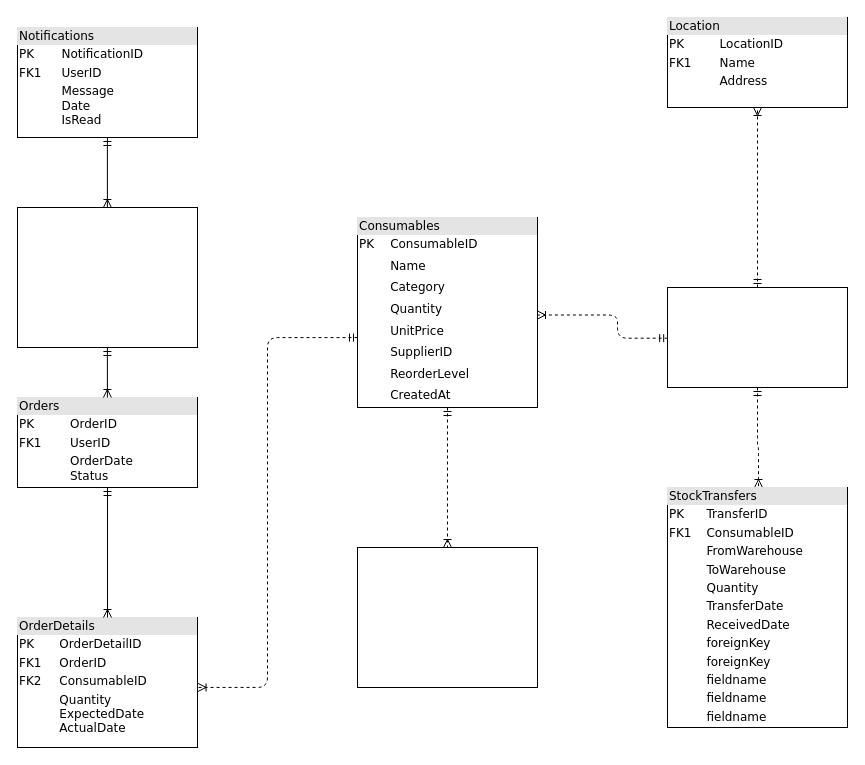
This 865x765 diagram has some shape labels left out. The shapes that lost their labels are listed below. From the top down, each one's box as (x1, y1, x2, y2) in pixels, then its label:
(16, 206, 198, 348): Users PK UserID Name Email Password Role CreatedAt LastLogin
(666, 286, 848, 388): Warehouse PK WarehouseID Name FK1 LocationID IsRefrigerated
(356, 546, 538, 688): Suppliers PK SupplierID Name Contact Address Email Phone
